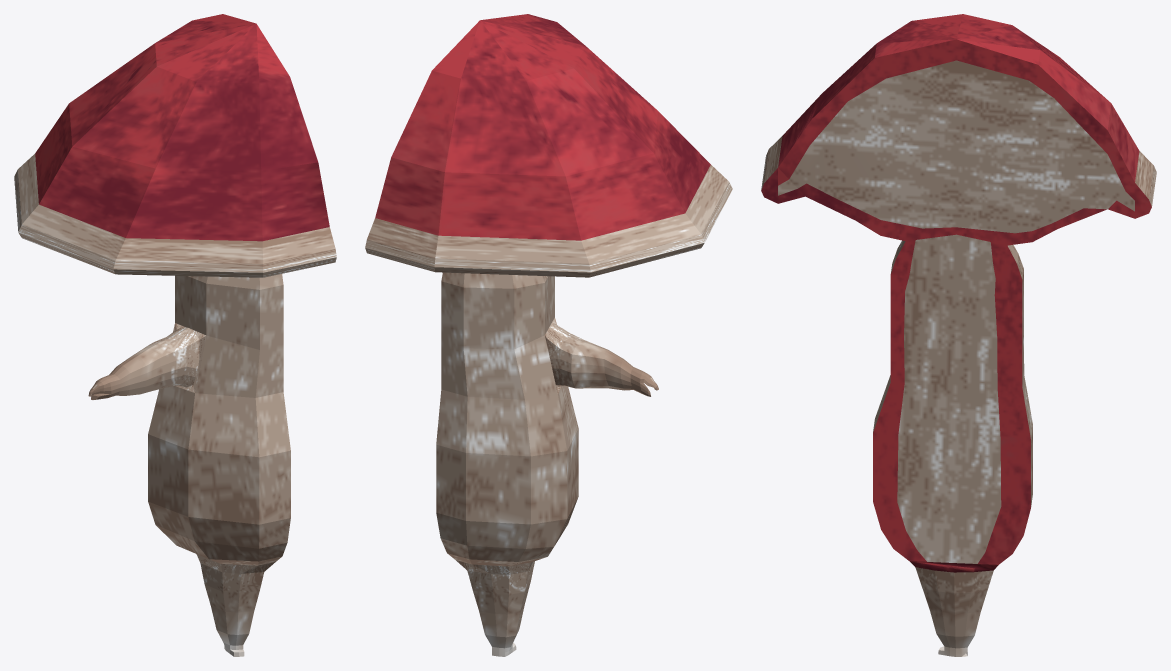
File: mushroom-man-half.glb
3 views of the same model, side by side, from view 1: azimuth 30°, elevation 25°; view 2: azimuth 150°, elevation 25°; view 3: azimuth 270°, elevation 25° (orthographic).
Parts seen in each view (by area): view 1: Sphere.001; view 2: Sphere.001; view 3: Sphere.001.
Boxes of the visible parts, left/top/right/bottom form: Sphere.001: left=14, top=14, right=336, bottom=656; Sphere.001: left=365, top=14, right=732, bottom=656; Sphere.001: left=761, top=14, right=1156, bottom=656.
Bounding box in the file's own units: 1.28 × 3.06 × 1.76.
3 materials, 3 textured.
